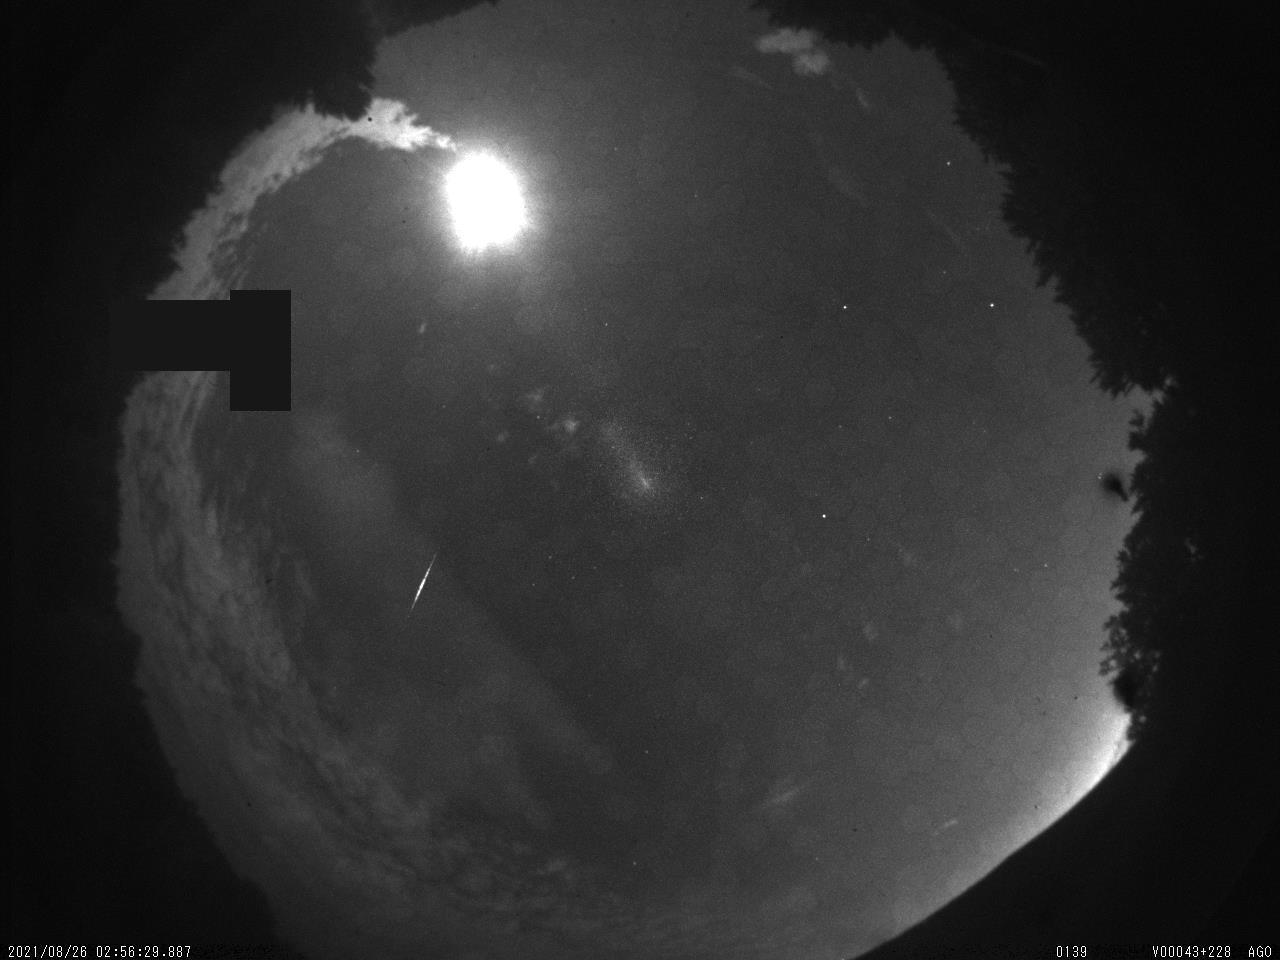meteor: (393, 536, 460, 622)
